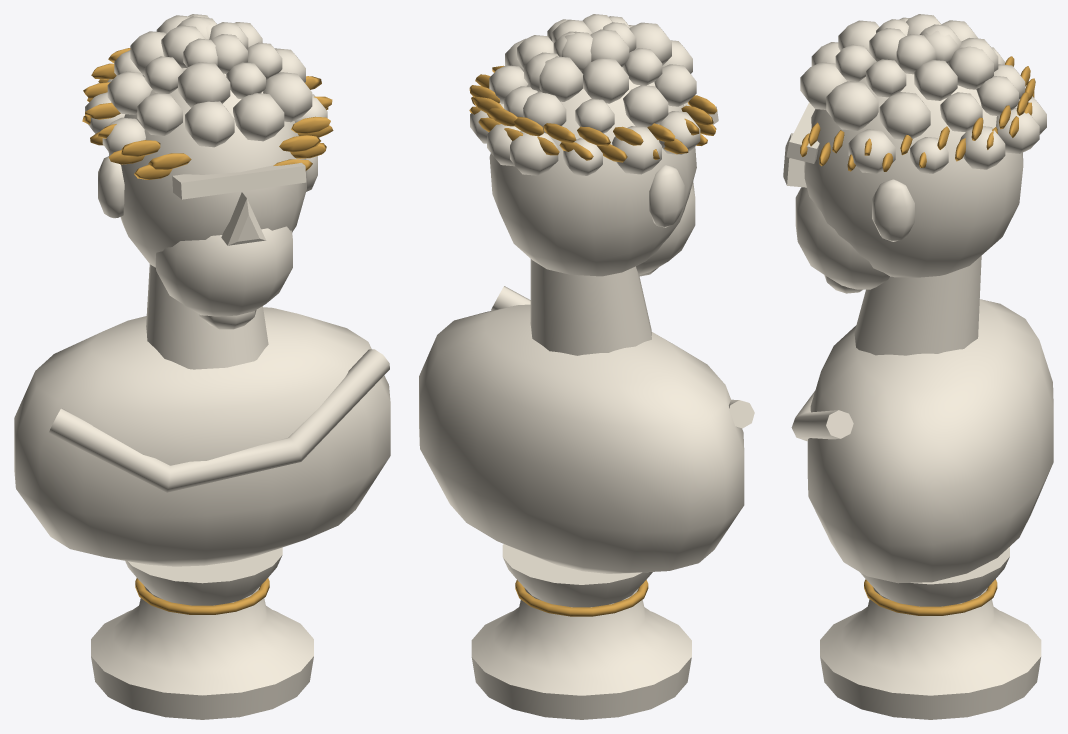
File: bust.glb
3 renders of one model, left to right at view 1: azimuth 30°, elevation 25°; view 2: azimuth 150°, elevation 25°; view 3: azimuth 270°, elevation 25°, orthographic.
Parts seen in each view (by area): view 1: Bust; view 2: Bust; view 3: Bust.
Part boxes in pixels (x1,y1,x2,y2): Bust: [14, 14, 390, 719]; Bust: [419, 14, 754, 719]; Bust: [783, 14, 1053, 719].
Bounding box in the file's own units: 0.2641 × 0.4966 × 0.1879.
